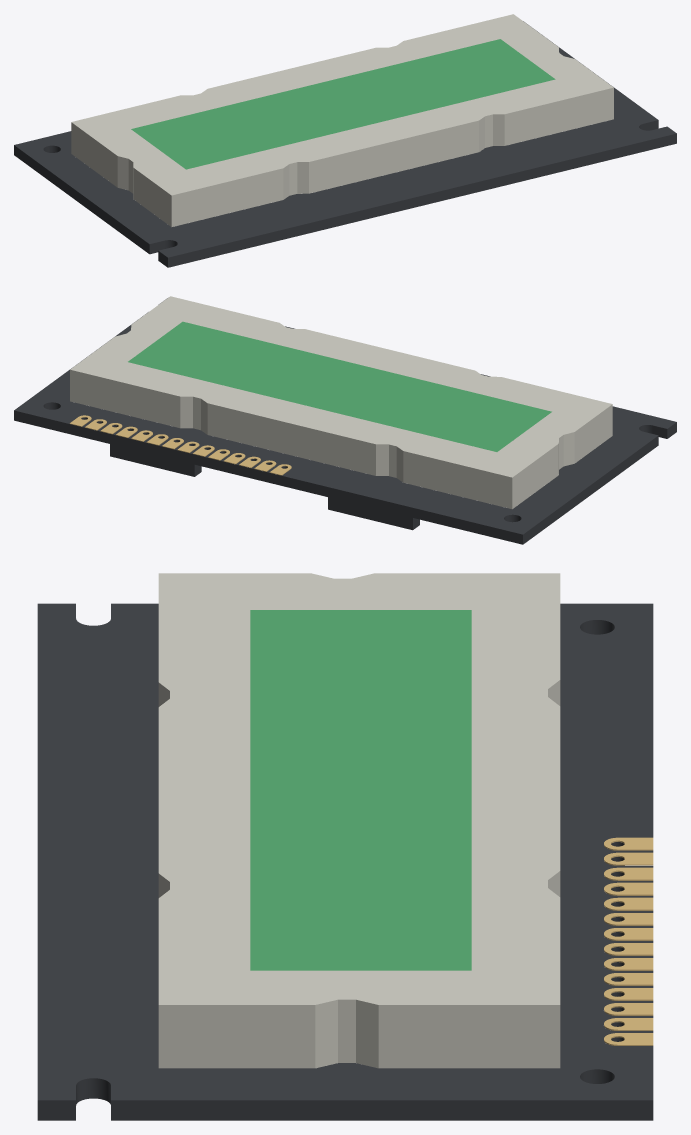
3 renders of one model, top to bottom at view 1: azimuth 30°, elevation 25°; view 2: azimuth 150°, elevation 25°; view 3: azimuth 270°, elevation 25°, orthographic. The views are drawn at different scales.
Visible parts, largest first — view 1: 0.6666666666666666_0.6666666666666666_0.5833333333333334_0.8, 0.08333333333333333_0.08333333333333333_0.08333333333333333_, 0.08333333333333333_0.4166666666666667_0.16666666666666666_0; view 2: 0.6666666666666666_0.6666666666666666_0.5833333333333334_0.8, 0.08333333333333333_0.08333333333333333_0.08333333333333333_, 0.08333333333333333_0.4166666666666667_0.16666666666666666_0, 0.75_0.5_0.25_0.9; view 3: 0.08333333333333333_0.08333333333333333_0.08333333333333333_, 0.6666666666666666_0.6666666666666666_0.5833333333333334_0.8, 0.08333333333333333_0.4166666666666667_0.16666666666666666_0, 0.75_0.5_0.25_0.9.
Part boxes in pixels (box(x1,y1,x2,y2)): 0.6666666666666666_0.6666666666666666_0.5833333333333334_0.8: box(71, 14, 613, 227); 0.08333333333333333_0.08333333333333333_0.08333333333333333_: box(14, 21, 676, 267); 0.08333333333333333_0.4166666666666667_0.16666666666666666_0: box(131, 39, 555, 169); 0.6666666666666666_0.6666666666666666_0.5833333333333334_0.8: box(70, 296, 612, 509); 0.08333333333333333_0.08333333333333333_0.08333333333333333_: box(14, 298, 676, 544); 0.08333333333333333_0.4166666666666667_0.16666666666666666_0: box(128, 321, 551, 451); 0.75_0.5_0.25_0.9: box(69, 415, 291, 475); 0.08333333333333333_0.08333333333333333_0.08333333333333333_: box(37, 603, 653, 1120); 0.6666666666666666_0.6666666666666666_0.5833333333333334_0.8: box(158, 573, 560, 1068); 0.08333333333333333_0.4166666666666667_0.16666666666666666_0: box(250, 610, 471, 970); 0.75_0.5_0.25_0.9: box(604, 837, 653, 1045).
Size of the model in its own units: 8.4 by 1.1 by 4.4.
